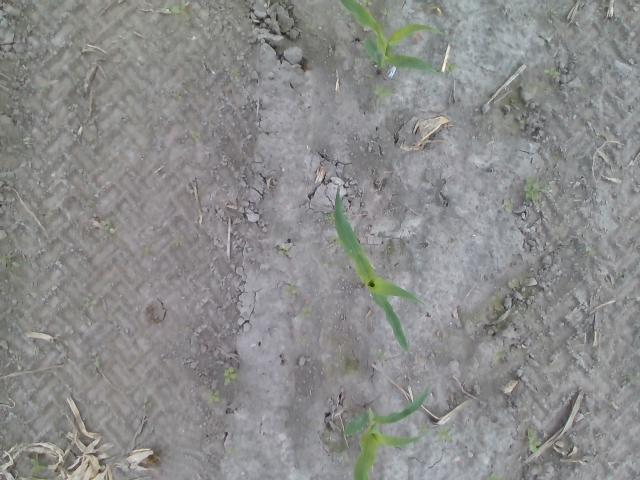Maize: (332, 186, 423, 356), (339, 0, 447, 76), (344, 385, 430, 480)
Weeds: (524, 176, 548, 200), (373, 83, 393, 106), (166, 0, 190, 19), (526, 428, 542, 455), (0, 252, 18, 269), (29, 458, 46, 474), (223, 366, 238, 384), (437, 426, 453, 442), (90, 349, 102, 369), (207, 390, 221, 404), (100, 218, 114, 232), (284, 281, 296, 297), (84, 296, 97, 308), (278, 244, 291, 256), (188, 130, 201, 142), (543, 67, 560, 76), (378, 350, 388, 365), (493, 349, 504, 362), (142, 396, 152, 410), (300, 307, 312, 318), (324, 212, 336, 223), (627, 372, 640, 382), (504, 199, 514, 212), (446, 61, 456, 74), (418, 424, 428, 434), (486, 473, 500, 480), (138, 246, 150, 254), (231, 68, 239, 80), (226, 446, 239, 453), (585, 246, 595, 255), (173, 90, 183, 98), (548, 6, 558, 14), (331, 236, 340, 244), (384, 10, 392, 18), (362, 0, 372, 6), (174, 239, 182, 246), (514, 307, 523, 313), (304, 23, 312, 29), (74, 77, 80, 84)
